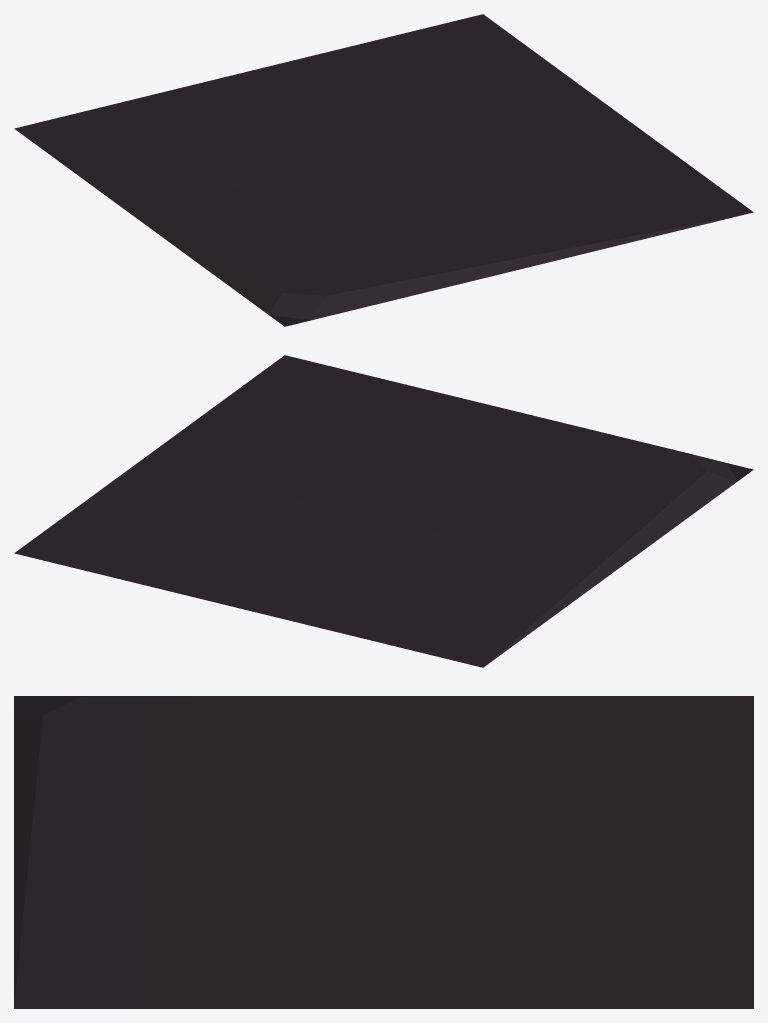
File: floor_tile_3.fbx
3 renders of one model, top to bottom at view 1: azimuth 30°, elevation 25°; view 2: azimuth 150°, elevation 25°; view 3: azimuth 270°, elevation 25°, orthographic. The views are drawn at different scales.
Visible parts, largest first — view 1: floor_tile_3; view 2: floor_tile_3; view 3: floor_tile_3.
Boxes of the visible parts, left/top/right/bottom form: floor_tile_3: left=14, top=14, right=753, bottom=326; floor_tile_3: left=14, top=355, right=753, bottom=667; floor_tile_3: left=14, top=696, right=753, bottom=1008.
Size of the model in its own units: 200 by 4.33 by 200.
